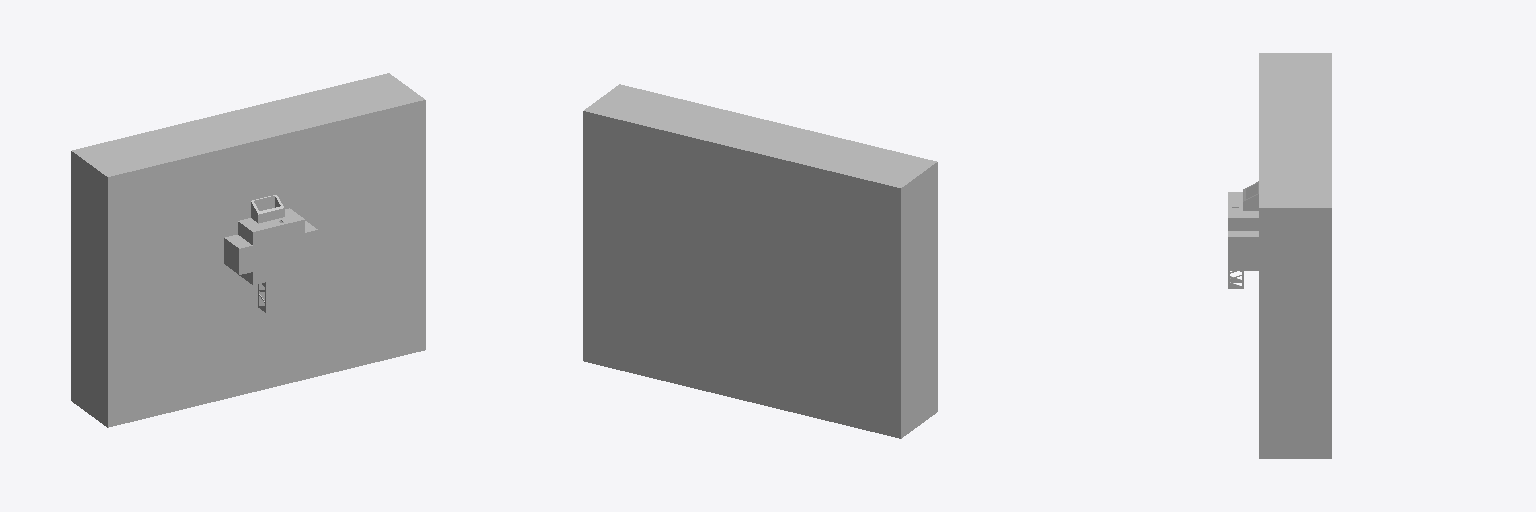
The model's file is debug_0002_col.obj.
3 renders of one model, left to right at view 1: azimuth 30°, elevation 25°; view 2: azimuth 150°, elevation 25°; view 3: azimuth 270°, elevation 25°, orthographic.
Parts seen in each view (by area): view 1: COLLIDE.005_Cube.052; view 2: COLLIDE.005_Cube.052; view 3: COLLIDE.005_Cube.052.
Part boxes in pixels (x1,y1,x2,y2): COLLIDE.005_Cube.052: (71,73,425,427); COLLIDE.005_Cube.052: (583,84,937,438); COLLIDE.005_Cube.052: (1228,53,1331,458).
Size of the model in its own units: 2072 by 1560 by 584.